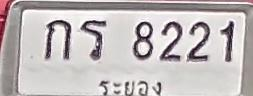1: (220, 20, 234, 62)
2: (187, 20, 210, 62), (159, 20, 182, 61)
8: (132, 20, 153, 60)
A01: (44, 19, 71, 60)
A35: (79, 19, 106, 60)
RYG: (97, 77, 164, 96)
